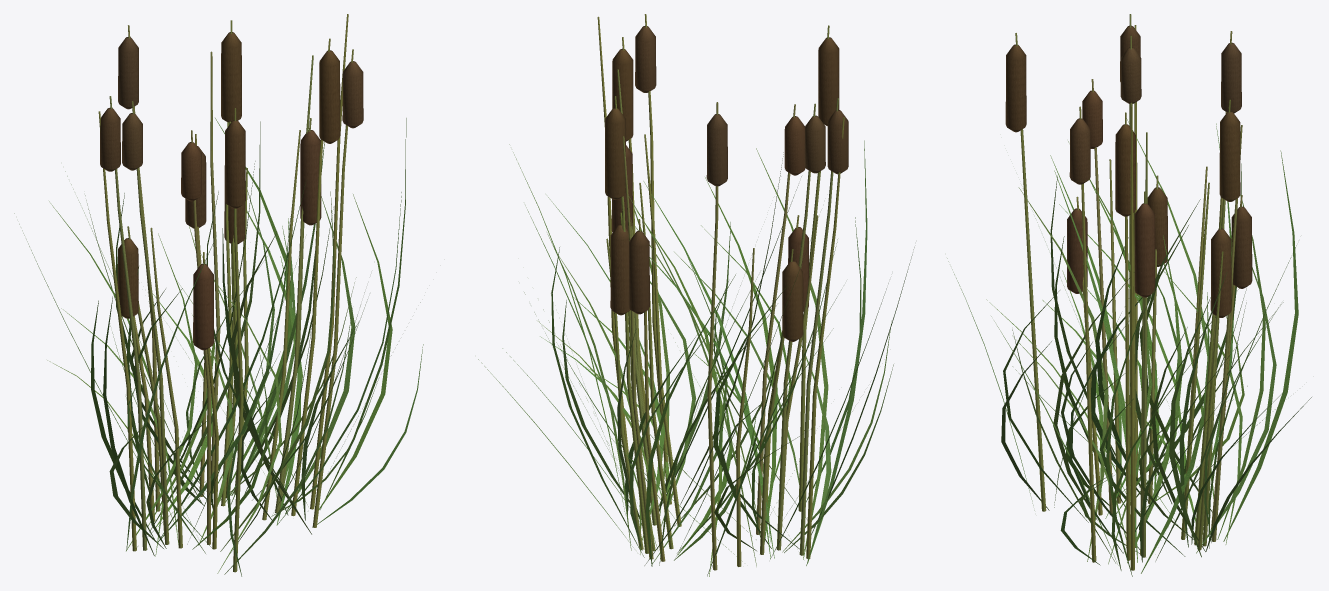
File: PZ_Cattails_Clump_A.glb
3 views of the same model, side by side, from view 1: azimuth 30°, elevation 25°; view 2: azimuth 150°, elevation 25°; view 3: azimuth 270°, elevation 25° (orthographic).
Parts seen in each view (by area): view 1: Cattails_LeafBlades_TightSilhouette, Cattails_IndependentStalks_Batched, Cattails_Brown_Seedheads; view 2: Cattails_LeafBlades_TightSilhouette, Cattails_IndependentStalks_Batched, Cattails_Brown_Seedheads; view 3: Cattails_LeafBlades_TightSilhouette, Cattails_IndependentStalks_Batched, Cattails_Brown_Seedheads.
Part boxes in pixels (x1,y1,x2,y2): Cattails_LeafBlades_TightSilhouette: (14, 118, 423, 576); Cattails_IndependentStalks_Batched: (98, 14, 353, 572); Cattails_Brown_Seedheads: (100, 32, 363, 350); Cattails_LeafBlades_TightSilhouette: (478, 140, 914, 576); Cattails_IndependentStalks_Batched: (597, 14, 844, 570); Cattails_Brown_Seedheads: (605, 26, 848, 341); Cattails_LeafBlades_TightSilhouette: (947, 118, 1311, 576); Cattails_IndependentStalks_Batched: (1015, 14, 1242, 570); Cattails_Brown_Seedheads: (1005, 25, 1252, 317).
Size of the model in its own units: 1.65 by 2.12 by 1.47.
Materials: 3 (3 with a texture image).
